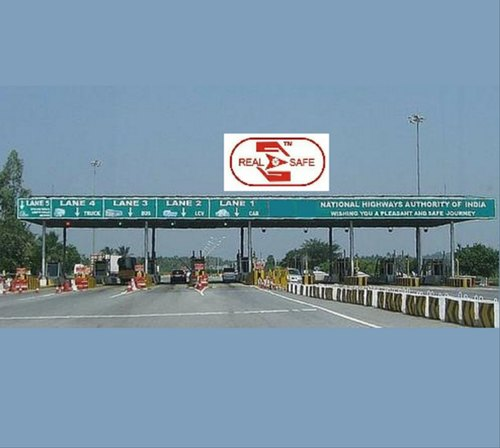toll plaza: (8, 183, 495, 297)
